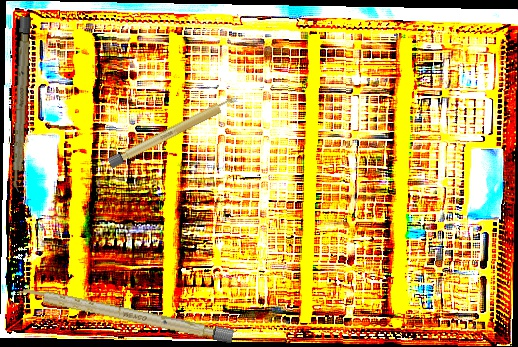Scalpel Handle: (17, 284, 235, 344), (107, 94, 240, 169), (10, 16, 32, 193)
